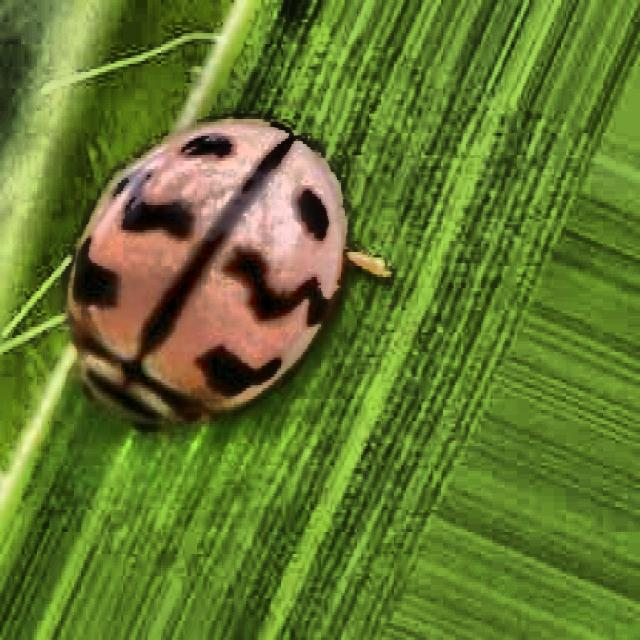Asian-Lady-beetle: (52, 93, 372, 451)
